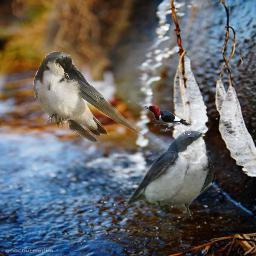Swallow: (31, 50, 144, 144), (125, 130, 216, 221)
Woodpecker: (141, 104, 192, 132)
